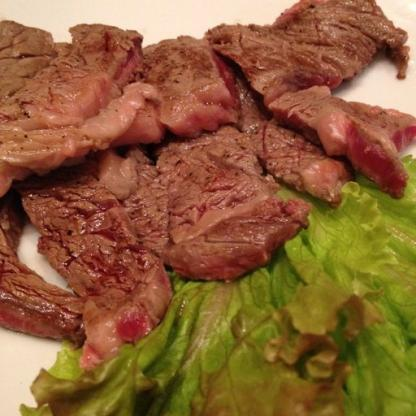beef: (16, 180, 169, 350), (114, 143, 306, 273), (0, 15, 144, 173), (206, 0, 399, 86), (270, 91, 415, 196), (142, 32, 239, 139), (246, 118, 346, 206)
